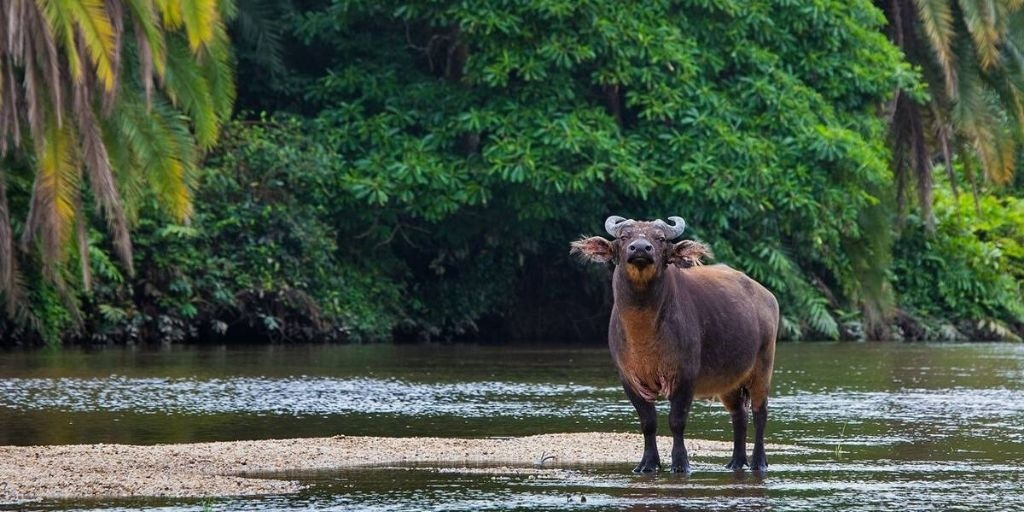buffalo: (565, 206, 800, 496)
